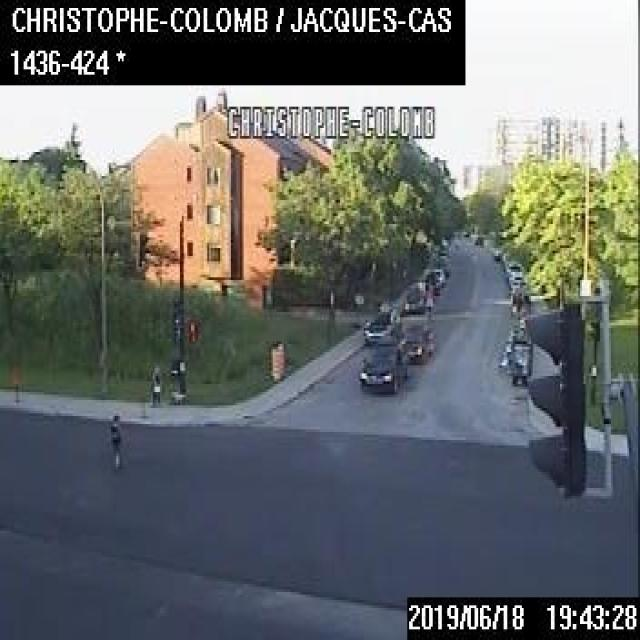construction: (10, 362, 20, 400), (276, 340, 284, 374), (272, 349, 280, 381), (269, 344, 277, 375)
pedestrian: (107, 411, 122, 464), (148, 360, 162, 408)
vehicle: (357, 341, 407, 389), (361, 303, 400, 341), (397, 321, 434, 360), (402, 280, 432, 312), (421, 266, 444, 292), (503, 258, 522, 276), (507, 269, 524, 288), (436, 254, 450, 273)
